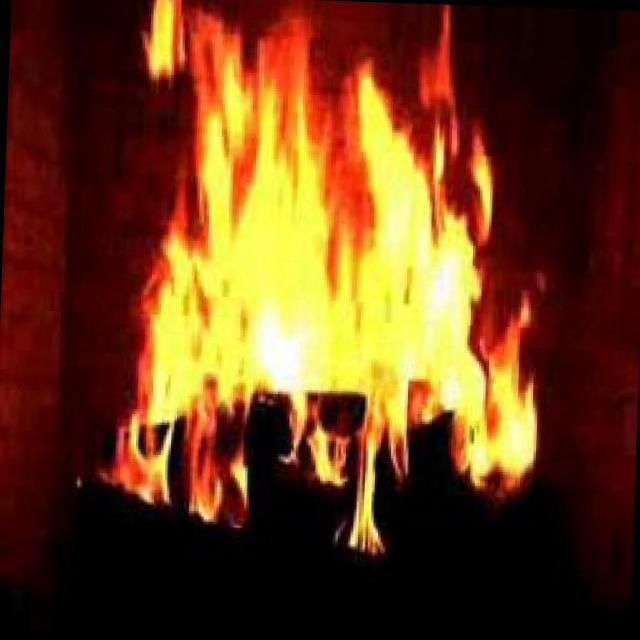Fire: (70, 0, 565, 584)
